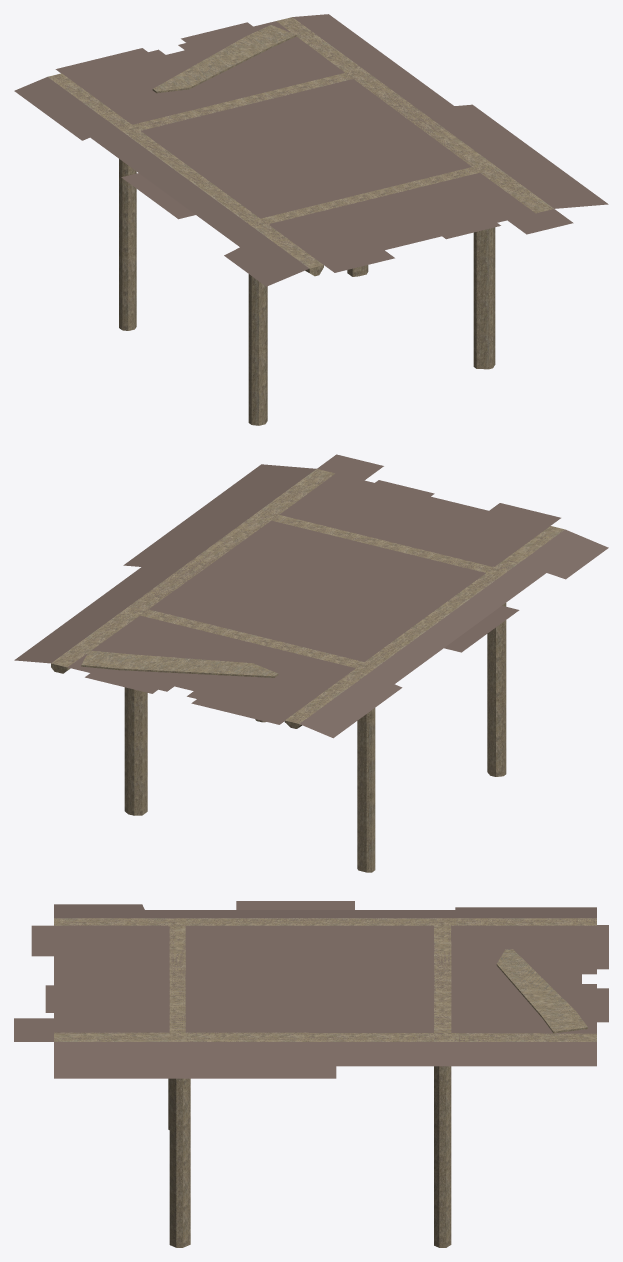
The model's file is Shade.fbx.
3 views of the same model, one above another, from view 1: azimuth 30°, elevation 25°; view 2: azimuth 150°, elevation 25°; view 3: azimuth 270°, elevation 25° (orthographic). The views are drawn at different scales.
Visible parts, largest first — view 1: Model; view 2: Model; view 3: Model.
Part boxes in pixels (x1,y1,x2,y2): Model: [14, 14, 608, 425]; Model: [14, 454, 608, 872]; Model: [14, 901, 608, 1247].
Bounding box in the file's own units: 55 × 30.75 × 79.89.
